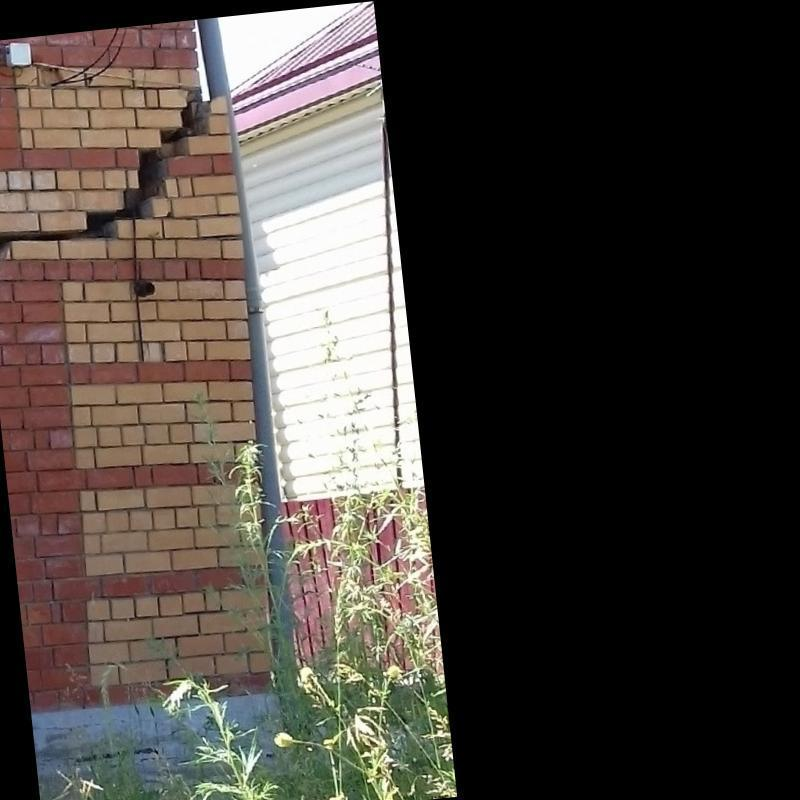pothole: (0, 88, 209, 256)
